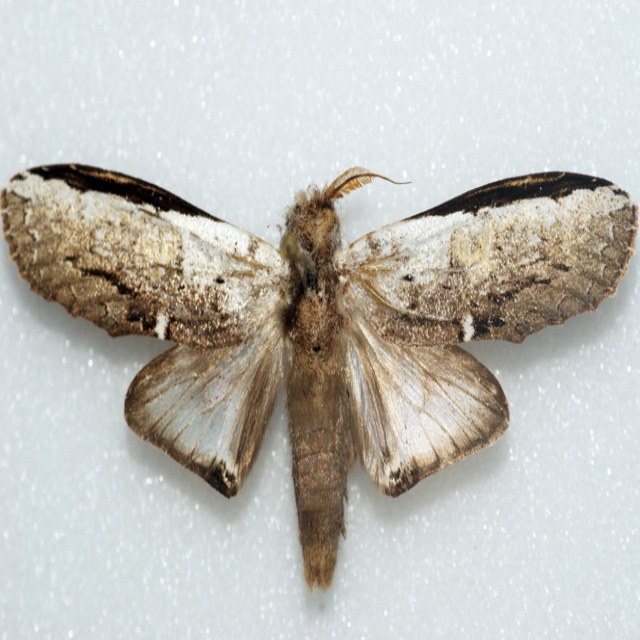Moths and butterflies: (0, 155, 639, 595)
